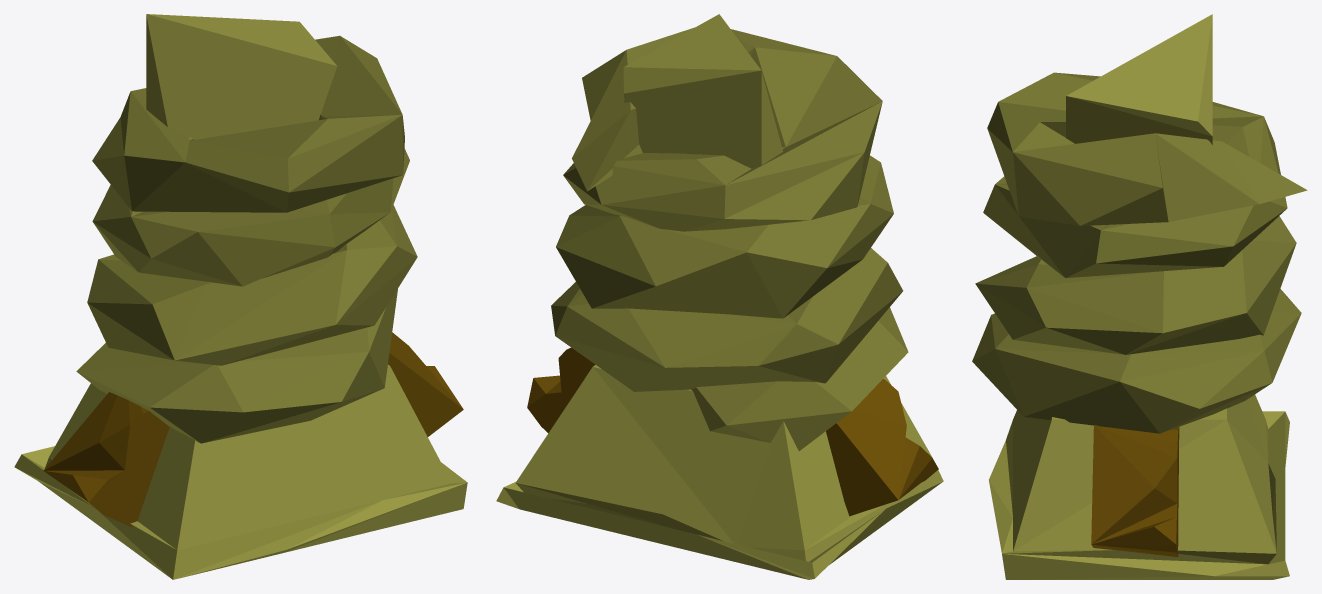
The model's file is torre_muisca_3.fbx.
The picture shows the model from 3 angles, left to right: view 1: azimuth 30°, elevation 25°; view 2: azimuth 150°, elevation 25°; view 3: azimuth 270°, elevation 25°; orthographic projection.
Parts seen in each view (by area): view 1: totem_muisca_tercer_daño; view 2: totem_muisca_tercer_daño; view 3: totem_muisca_tercer_daño.
Boxes of the visible parts, x1,y1,x2,y2 form: totem_muisca_tercer_daño: [14, 14, 467, 579]; totem_muisca_tercer_daño: [496, 14, 943, 579]; totem_muisca_tercer_daño: [972, 14, 1307, 579].
Bounding box in the file's own units: 7.81 × 9.2 × 6.04.
